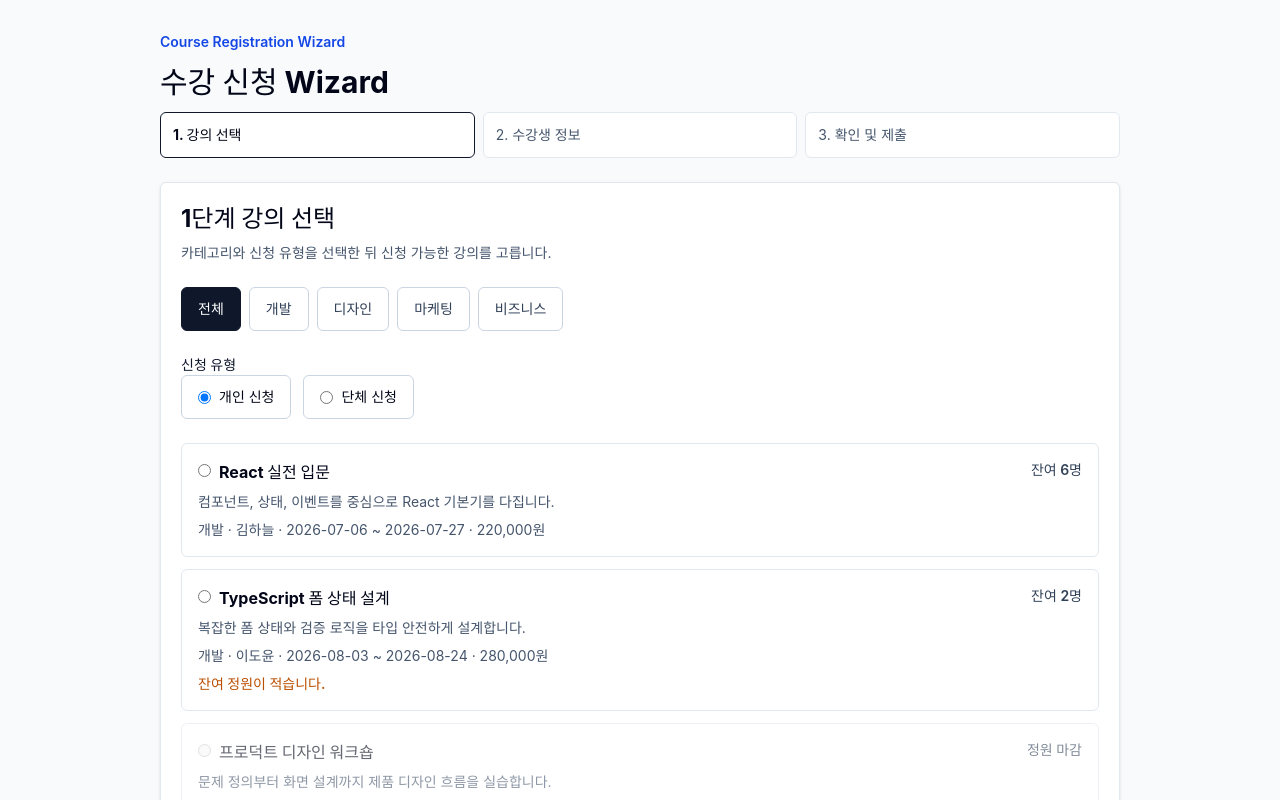
Test: EnrollmentWizardPage › 새 카테고리 조회 결과에 기존 선택 강의가 없으면 선택을 해제하고 재선택을 안내한다
The image size is (1280, 800).
Click the radio button labelled "React 실전 입문": (204, 470) [198,464,211,477]
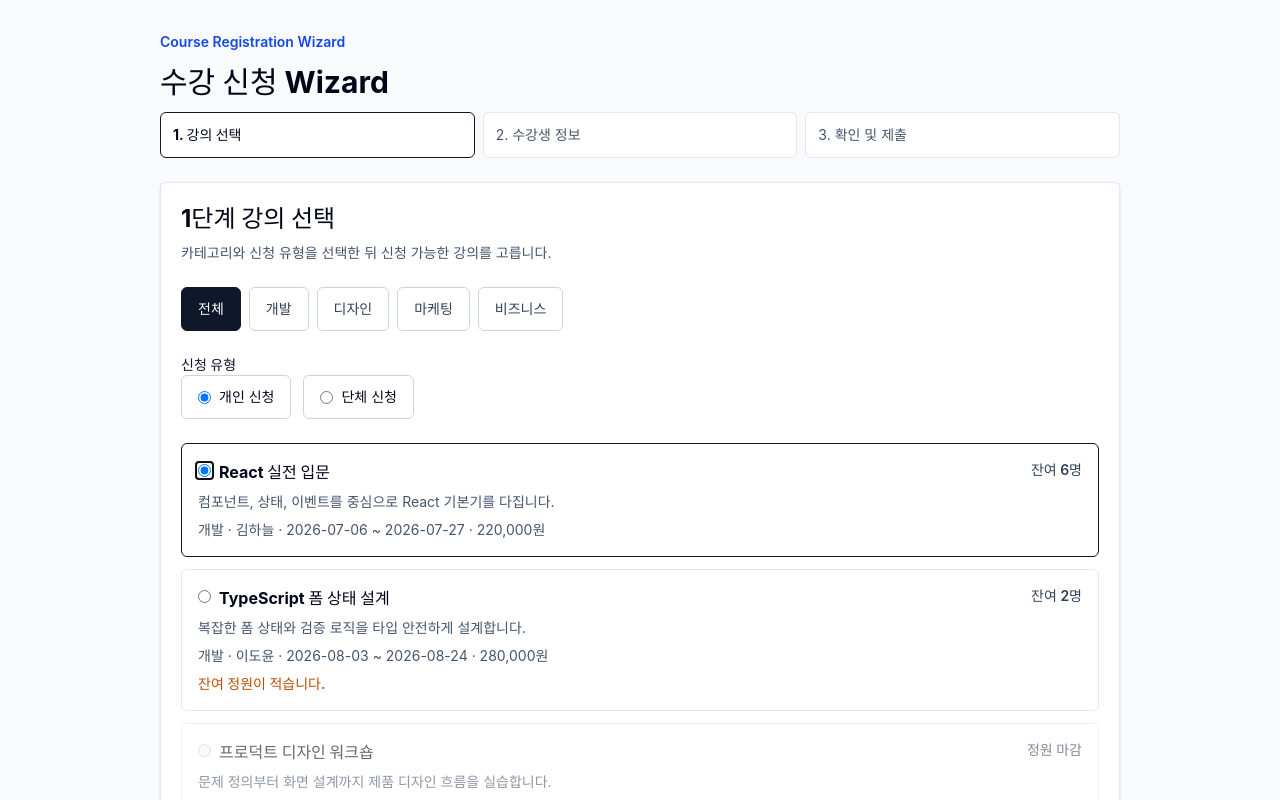
Click the button "마케팅": (434, 309) [397,287,470,331]
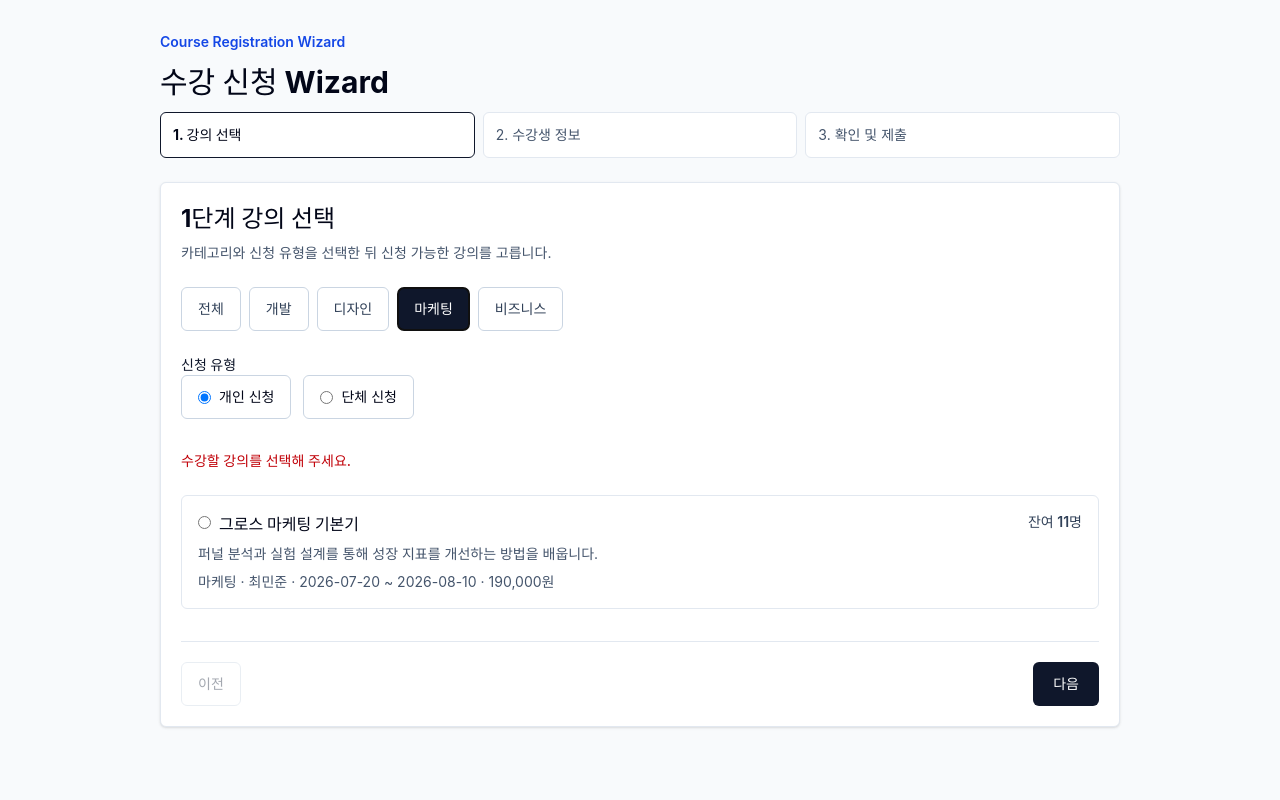
expect the radio button labelled "그로스 마케팅 기본기" is shown: met, box [198,516,211,529]
expect the text "수강할 강의를 선택해 주세요." is shown: met, box [181,452,351,469]
